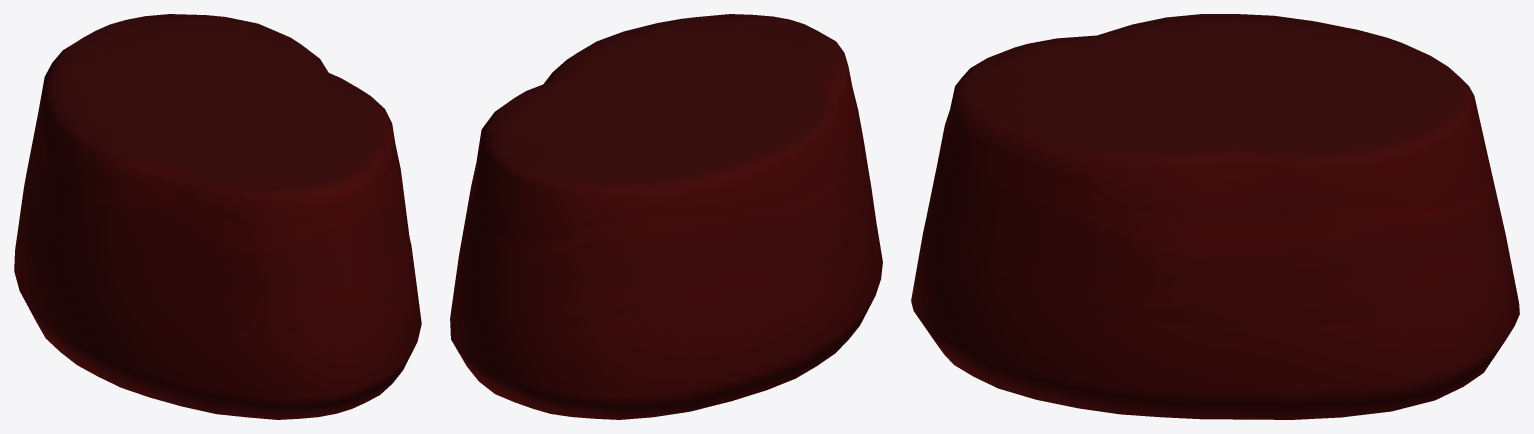
File: geology-landforms-alienplateutiny_v2.fbx
The picture shows the model from 3 angles, left to right: view 1: azimuth 30°, elevation 25°; view 2: azimuth 150°, elevation 25°; view 3: azimuth 270°, elevation 25°; orthographic projection. The views are drawn at different scales.
Visible parts, largest first — view 1: AlienPlateuTiny_v2; view 2: AlienPlateuTiny_v2; view 3: AlienPlateuTiny_v2.
Part boxes in pixels (x1=…): AlienPlateuTiny_v2: x1=14, y1=14, x2=421, y2=419; AlienPlateuTiny_v2: x1=450, y1=14, x2=882, y2=419; AlienPlateuTiny_v2: x1=911, y1=14, x2=1519, y2=419.
Size of the model in its own units: 18.77 by 12.36 by 27.03.
